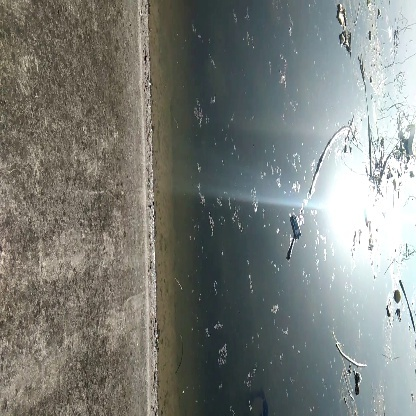branch: (304, 124, 355, 202), (334, 336, 370, 371)
milk-box: (290, 211, 307, 239)
